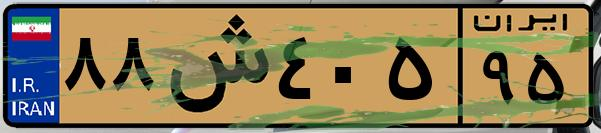0: (330, 28, 385, 110)
4: (270, 28, 330, 110)
5: (385, 28, 445, 110), (525, 38, 570, 115)
8: (57, 26, 110, 100), (110, 28, 158, 98)
9: (475, 38, 525, 113)
ش: (158, 12, 270, 120)
